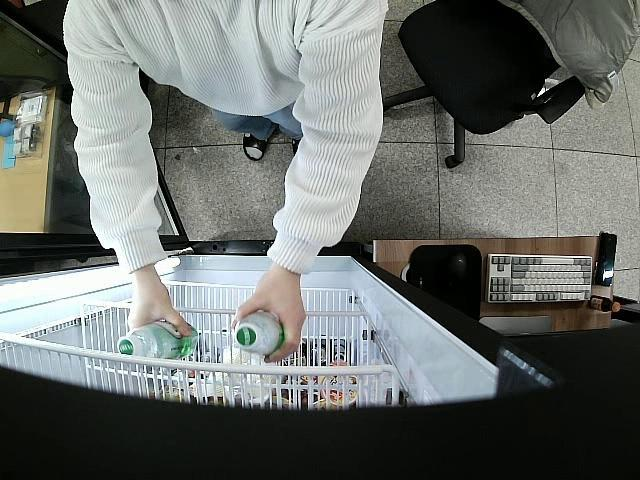18_trevi: (118, 323, 198, 359), (232, 310, 284, 356)
